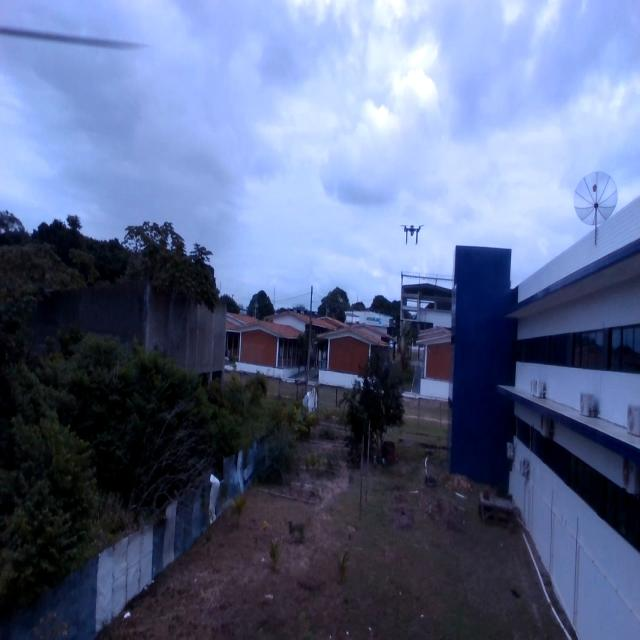-uav-: (394, 215, 430, 256)
